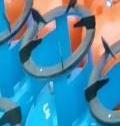cylinder: (1, 0, 120, 126)
